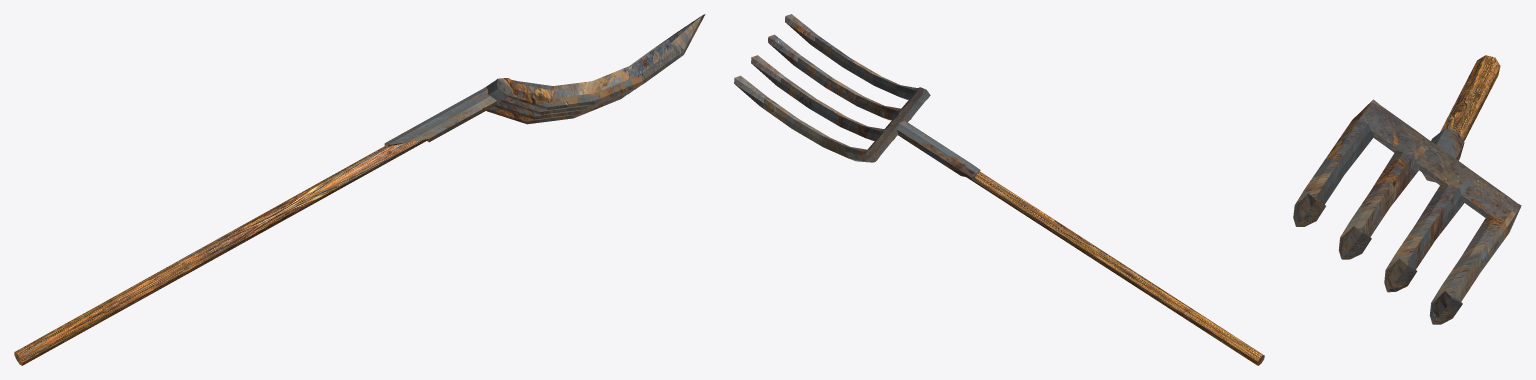
Rendered from Pitchfork.glb.
The picture shows the model from 3 angles, left to right: view 1: azimuth 30°, elevation 25°; view 2: azimuth 150°, elevation 25°; view 3: azimuth 270°, elevation 25°; orthographic projection. The views are drawn at different scales.
Visible parts, largest first — view 1: Pitchfork; view 2: Pitchfork; view 3: Pitchfork.
Part boxes in pixels (x1,y1,x2,y2): Pitchfork: [14, 14, 705, 365]; Pitchfork: [734, 14, 1264, 365]; Pitchfork: [1293, 55, 1521, 324].
Size of the model in its own units: 2.38 by 0.8191 by 0.4376.
1 material, 1 textured.
